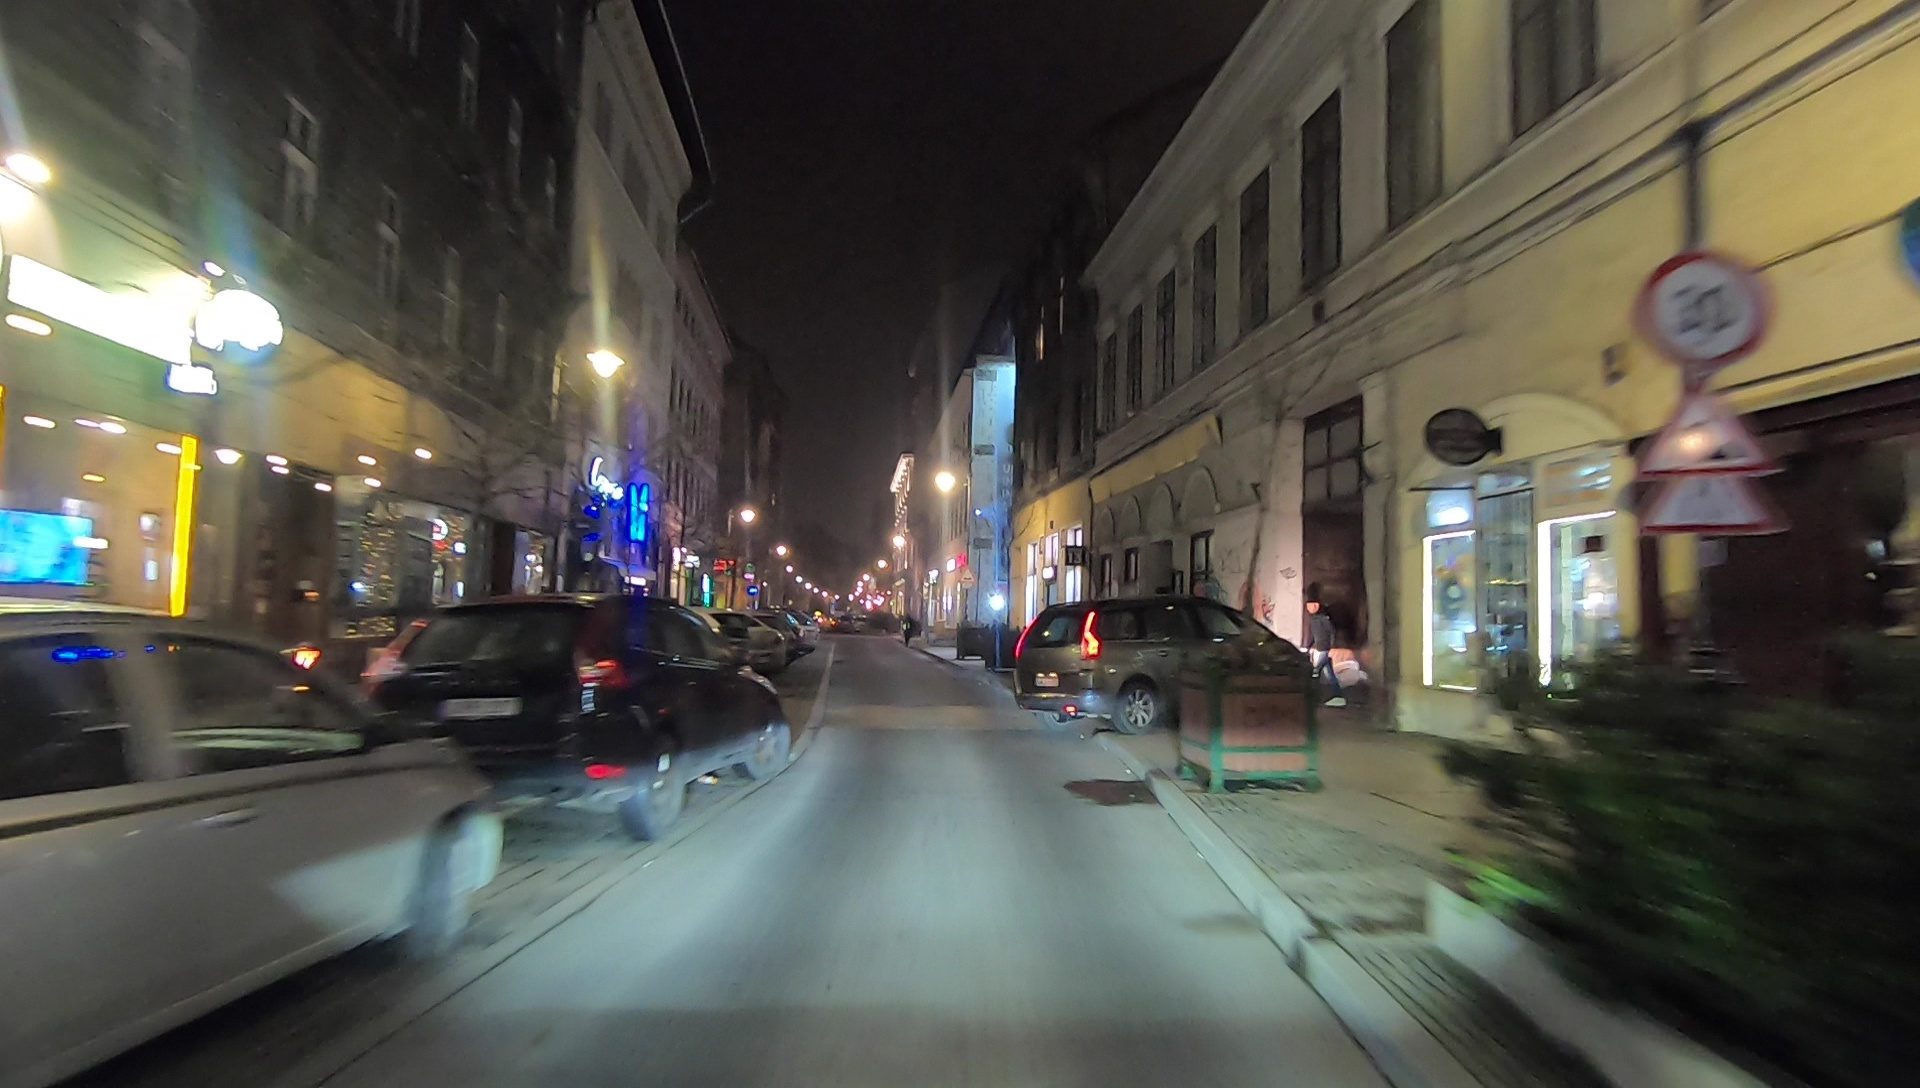person: (1304, 595, 1345, 708)
